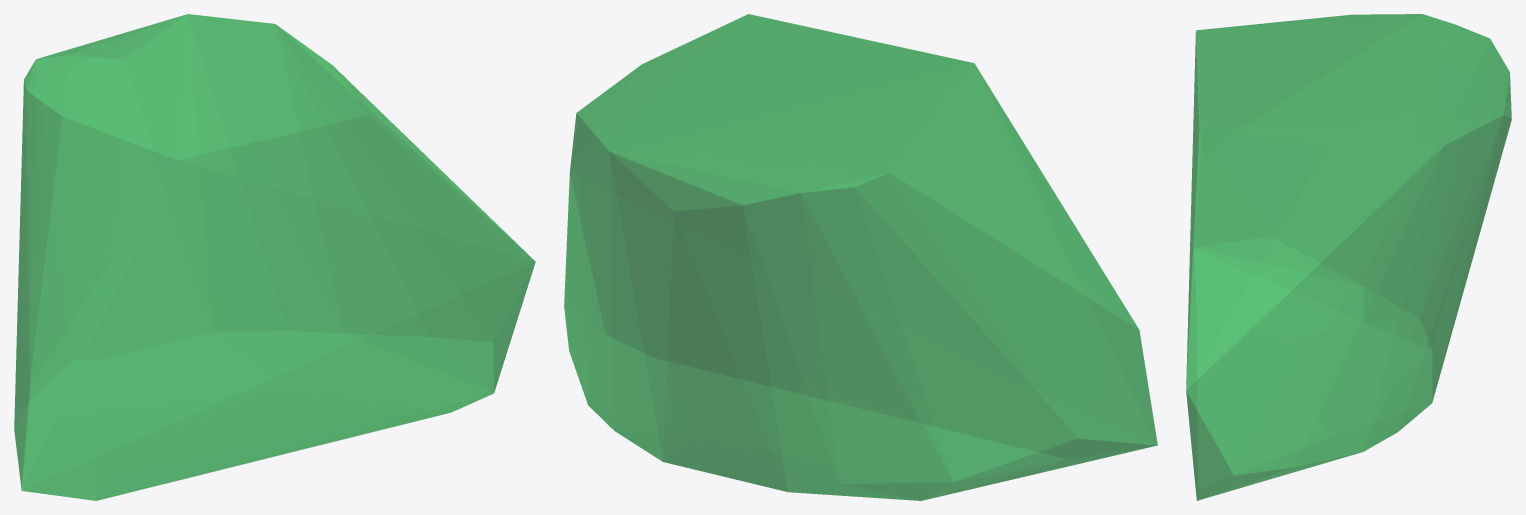
3 renders of one model, left to right at view 1: azimuth 30°, elevation 25°; view 2: azimuth 150°, elevation 25°; view 3: azimuth 270°, elevation 25°, orthographic. The views are drawn at different scales.
Visible parts, largest first — view 1: Shape_IndexedFaceSet.001_Shape_IndexedFaceSet.20378; view 2: Shape_IndexedFaceSet.001_Shape_IndexedFaceSet.20378; view 3: Shape_IndexedFaceSet.001_Shape_IndexedFaceSet.20378.
Boxes of the visible parts, <box> form: Shape_IndexedFaceSet.001_Shape_IndexedFaceSet.20378: <box>14,14,535,500</box>; Shape_IndexedFaceSet.001_Shape_IndexedFaceSet.20378: <box>564,14,1157,500</box>; Shape_IndexedFaceSet.001_Shape_IndexedFaceSet.20378: <box>1186,14,1511,500</box>.
Size of the model in its own units: 0.3584 by 0.2156 by 0.1959.
